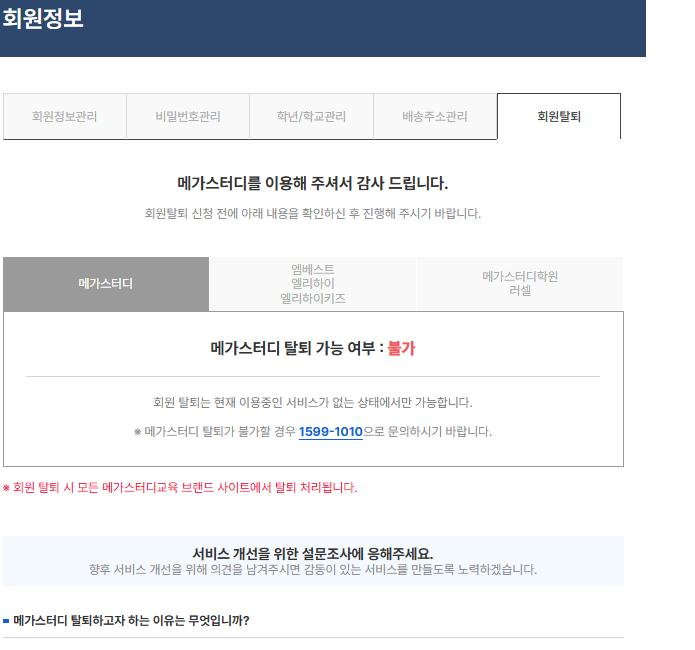button: (417, 258, 619, 311), (5, 260, 210, 311), (215, 258, 411, 308), (251, 90, 375, 140), (499, 92, 622, 140), (376, 93, 498, 138), (125, 93, 249, 136), (3, 95, 125, 136), (296, 424, 364, 440)
